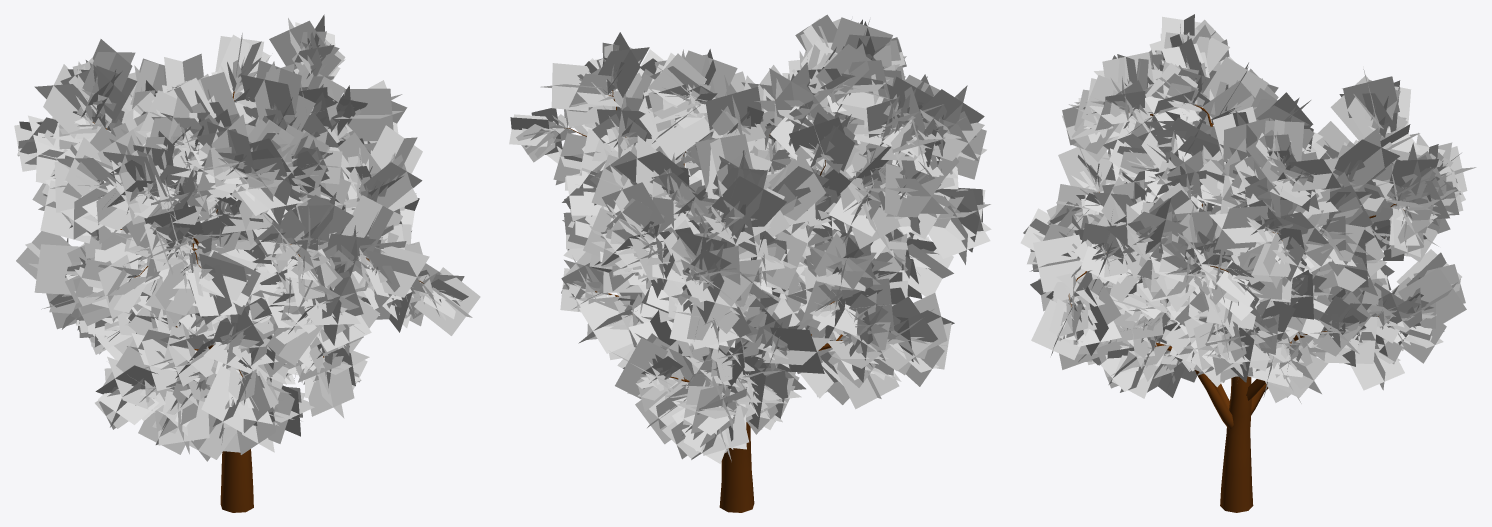
File: arvore5.glb
3 renders of one model, left to right at view 1: azimuth 30°, elevation 25°; view 2: azimuth 150°, elevation 25°; view 3: azimuth 270°, elevation 25°, orthographic. The views are drawn at different scales.
Parts seen in each view (by area): view 1: Mesh_1.002; view 2: Mesh_1.002; view 3: Mesh_1.002.
Part boxes in pixels (x1,y1,x2,y2): Mesh_1.002: (14,14,480,512); Mesh_1.002: (509,14,991,512); Mesh_1.002: (1020,14,1476,512).
Bounding box in the file's own units: 24.12 × 25.99 × 25.06.
